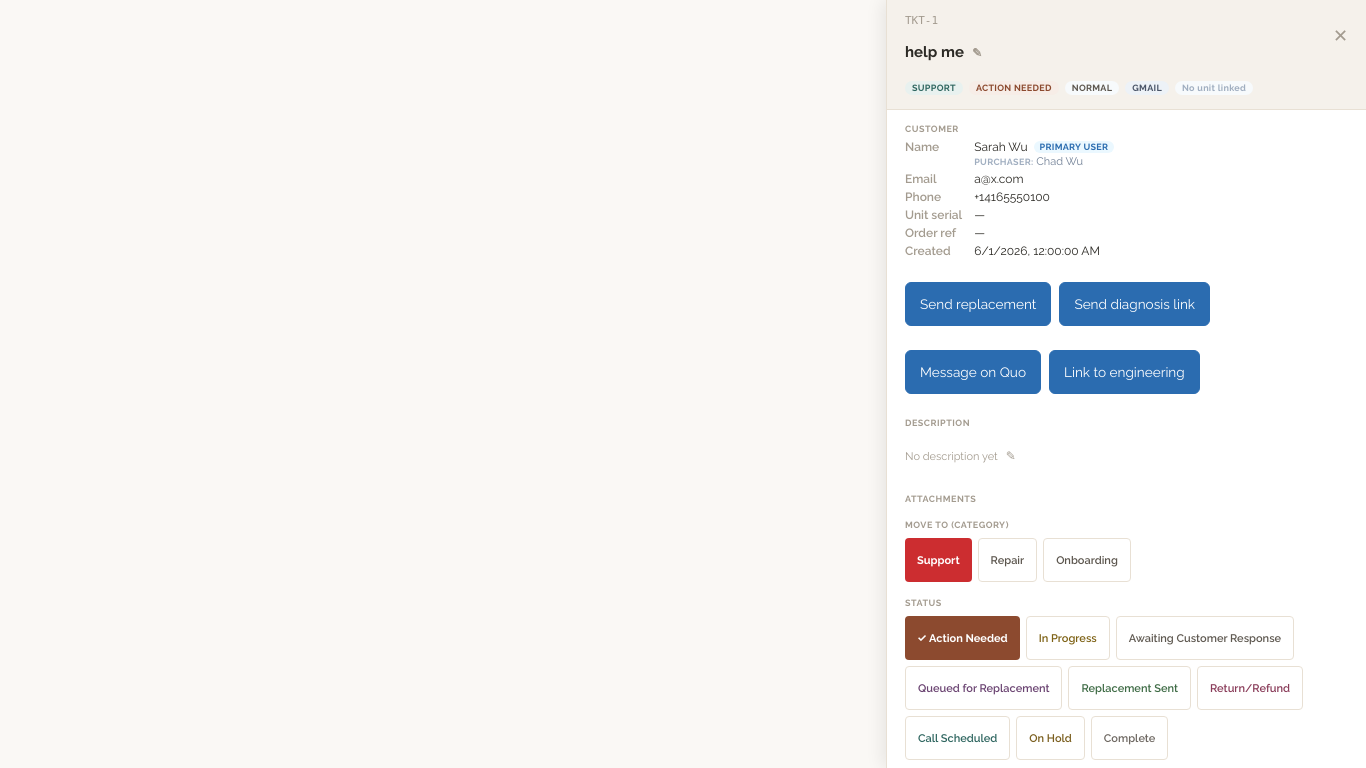
Scenario: TicketDetailPanel — purchaser vs primary user › warns when the SMS cannot reach the primary user own number
The width and height of the screenshot is (1366, 768).
Click the button "Send diagnosis link": (1135, 304) [1059,282,1210,326]
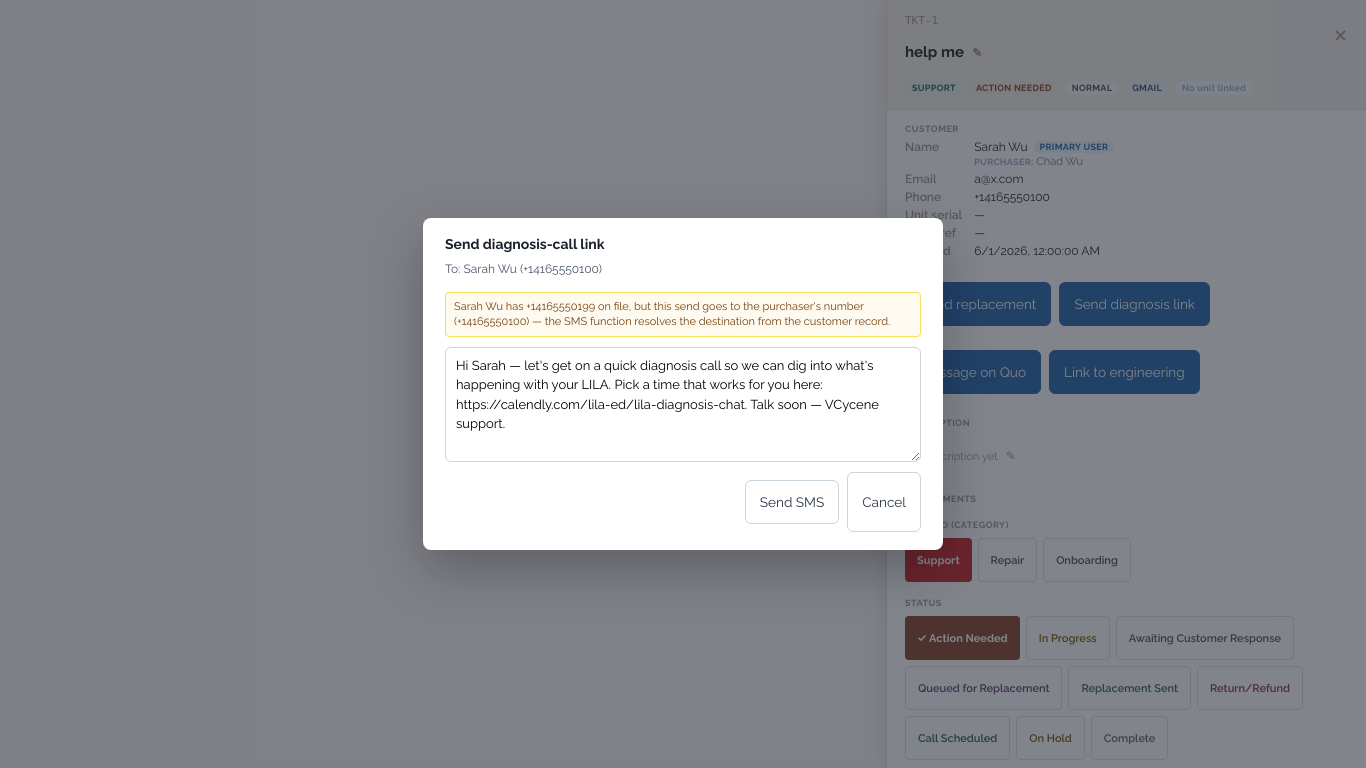
Result: the text "goes to the purchaser's number" is shown at [454,300,864,328]
